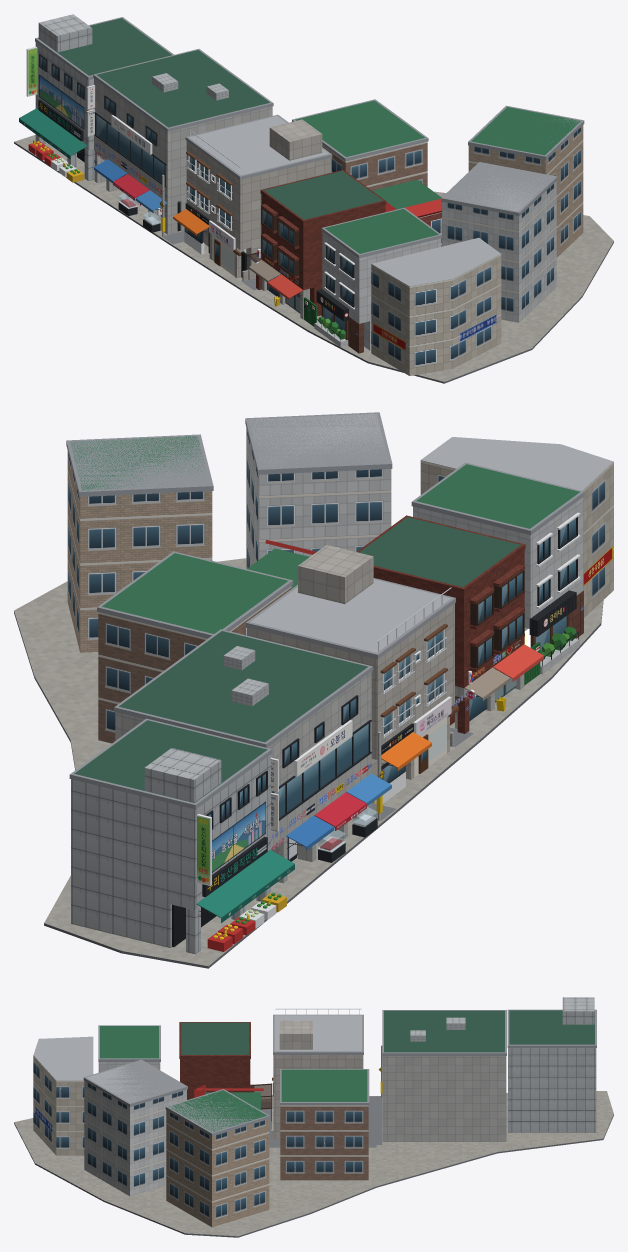
File: place_우리농산물직판장.glb
3 renders of one model, top to bottom at view 1: azimuth 30°, elevation 25°; view 2: azimuth 150°, elevation 25°; view 3: azimuth 270°, elevation 25°, orthographic. The views are drawn at different scales.
Parts seen in each view (by area): view 1: Light_B6_88_CornerCommercial, SiteGround_YellowBoundary_Slab, Merged_Light_B9_14314, Merged_B3_Granite, Merged_B2_Roof, Merged_B2_Granite, Merged_Light_Parapet, Merged_Light_GreenRoof, Merged_Light_B10_1438, Merged_B1_ACP, Merged_B4_RedFlutedBrick, Merged_B1_Roof (+24 smaller); view 2: Merged_B1_ACP, SiteGround_YellowBoundary_Slab, Merged_Light_Parapet, Merged_Light_B10_1438, Merged_B2_Roof, Merged_Light_B9_14314, Merged_B3_Granite, Light_B6_88_CornerCommercial, Merged_Light_GreenRoof, Merged_B3_Roof, Merged_Light_B7_921, Merged_B4_Roof (+34 smaller); view 3: SiteGround_YellowBoundary_Slab, Merged_B2_Granite, Merged_Light_B10_1438, Merged_B1_ACP, Merged_Light_B9_14314, Merged_Light_B7_921, Light_B6_88_CornerCommercial, Merged_Light_Parapet, Merged_B2_Roof, Merged_Light_GreenRoof, Merged_B3_Granite, Merged_B1_Roof (+14 smaller).
Part boxes in pixels (<box>): Light_B6_88_CornerCommercial: <box>371,237,501,375</box>; SiteGround_YellowBoundary_Slab: <box>14,135,613,383</box>; Merged_Light_B9_14314: <box>442,181,556,322</box>; Merged_B3_Granite: <box>186,119,331,277</box>; Merged_B2_Roof: <box>96,50,269,127</box>; Merged_B2_Granite: <box>94,78,272,234</box>; Merged_Light_Parapet: <box>292,99,584,216</box>; Merged_Light_GreenRoof: <box>295,100,441,209</box>; Merged_Light_B10_1438: <box>468,125,583,257</box>; Merged_B1_ACP: <box>35,14,94,180</box>; Merged_B4_RedFlutedBrick: <box>261,194,385,316</box>; Merged_B1_Roof: <box>38,18,172,75</box>; Merged_B1_ACP: <box>71,748,270,954</box>; SiteGround_YellowBoundary_Slab: <box>14,558,603,968</box>; Merged_Light_Parapet: <box>66,412,392,638</box>; Merged_Light_B10_1438: <box>67,451,212,652</box>; Merged_B2_Roof: <box>119,631,367,742</box>; Merged_Light_B9_14314: <box>246,428,391,568</box>; Merged_B3_Granite: <box>247,545,454,779</box>; Light_B6_88_CornerCommercial: <box>420,437,613,617</box>; Merged_Light_GreenRoof: <box>102,548,309,633</box>; Merged_B3_Roof: <box>250,579,451,652</box>; Merged_Light_B7_921: <box>98,586,291,743</box>; Merged_B4_Roof: <box>359,517,520,587</box>; SiteGround_YellowBoundary_Slab: <box>14,1091,613,1237</box>; Merged_B2_Granite: <box>382,1056,506,1141</box>; Merged_Light_B10_1438: <box>166,1110,269,1227</box>; Merged_B1_ACP: <box>508,997,596,1132</box>; Merged_Light_B9_14314: <box>84,1081,186,1196</box>; Merged_Light_B7_921: <box>280,1105,368,1180</box>; Light_B6_88_CornerCommercial: <box>33,1036,93,1155</box>; Merged_Light_Parapet: <box>83,1059,369,1136</box>; Merged_B2_Roof: <box>384,1010,504,1052</box>; Merged_Light_GreenRoof: <box>206,1069,367,1110</box>; Merged_B3_Granite: <box>273,1020,363,1139</box>; Merged_B1_Roof: <box>509,1010,594,1044</box>.
Bounding box in the file's own units: 39.23 × 13.08 × 68.
88 materials, 50 textured.
